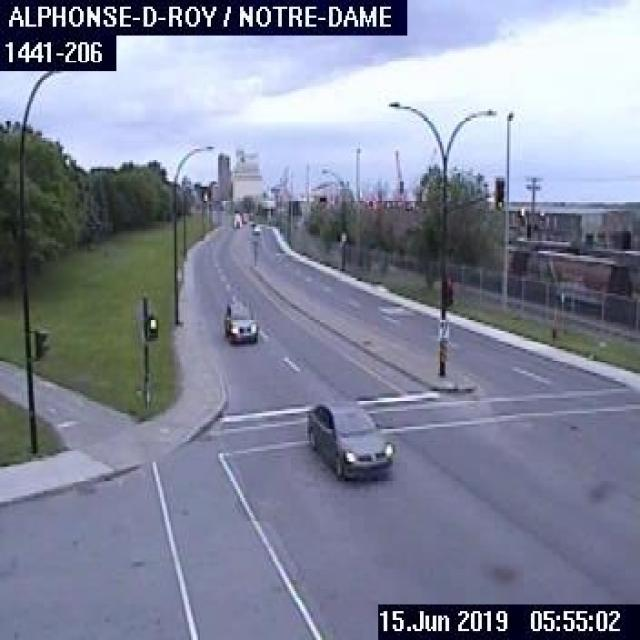vehicle: (304, 397, 394, 482), (222, 297, 256, 341)
